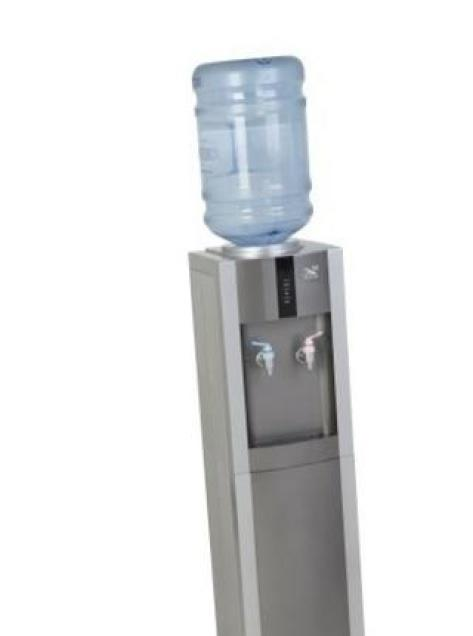Dispenser: (187, 56, 366, 635)
